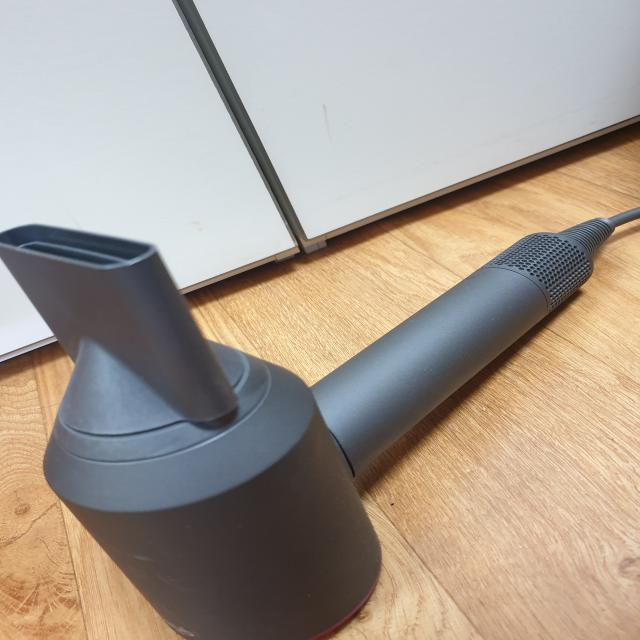dryer: (0, 202, 640, 640)
